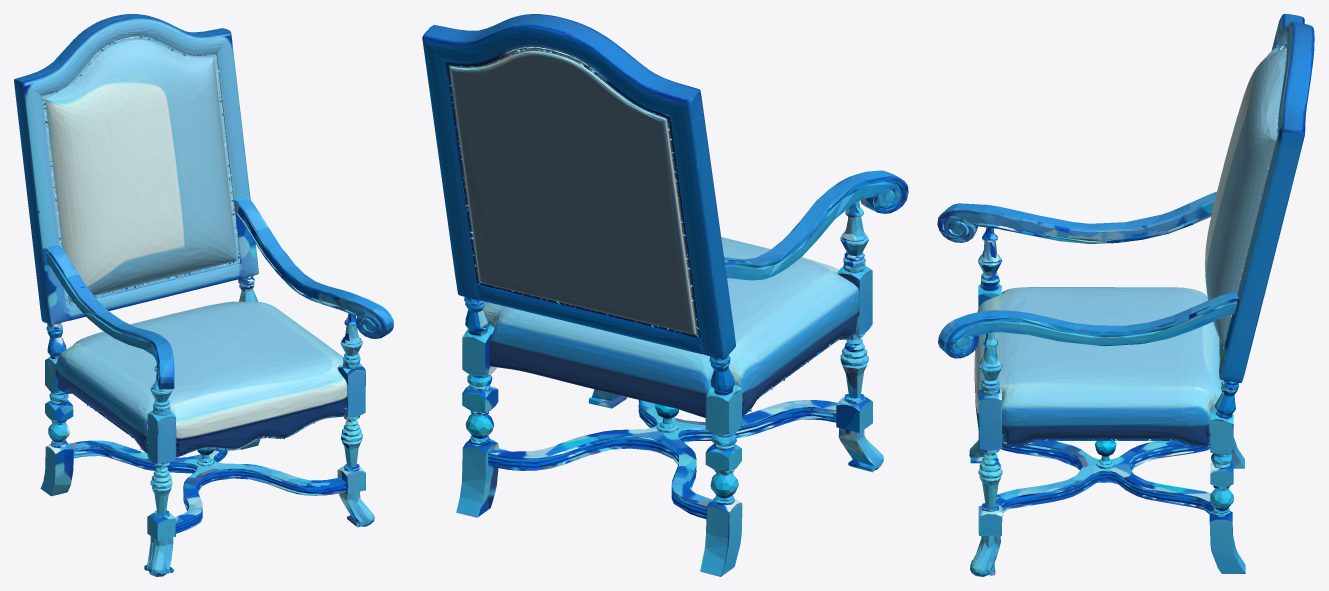
File: edited_mesh.glb
The picture shows the model from 3 angles, left to right: view 1: azimuth 30°, elevation 25°; view 2: azimuth 150°, elevation 25°; view 3: azimuth 270°, elevation 25°; orthographic projection. The views are drawn at different scales.
Parts seen in each view (by area): view 1: solid_001_wire; view 2: solid_001_wire; view 3: solid_001_wire.
Boxes of the visible parts, x1,y1,x2,y2 form: solid_001_wire: [14, 14, 393, 576]; solid_001_wire: [422, 14, 908, 576]; solid_001_wire: [937, 14, 1314, 576].
Bounding box in the file's own units: 0.8481 × 1.48 × 1.04.
1 material, 1 textured.
